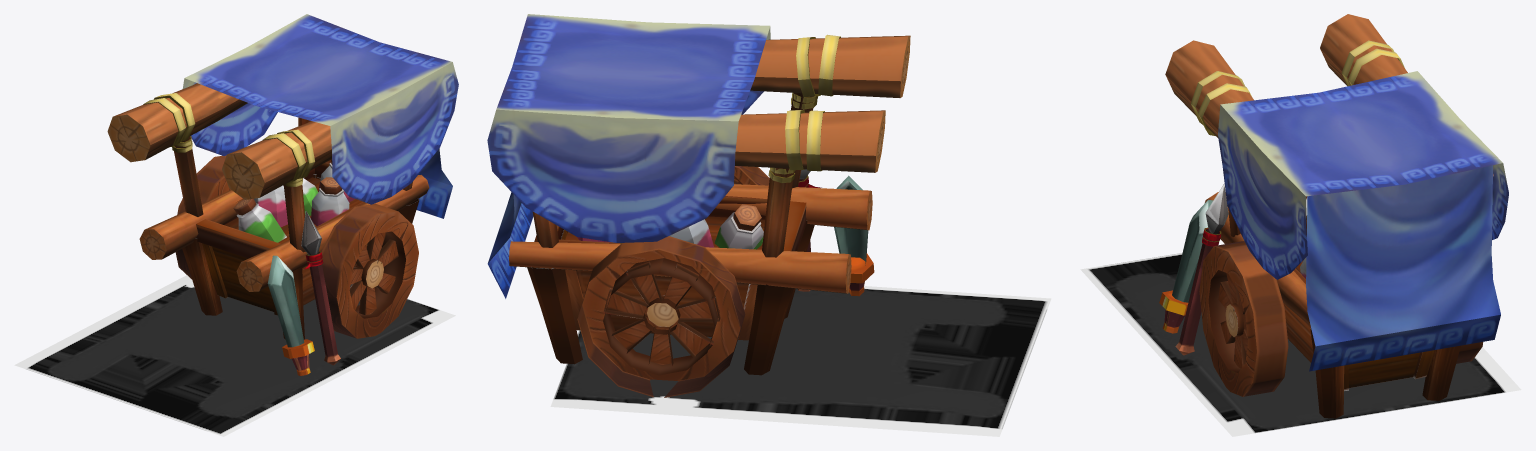
Rendered from tuiche.fbx.
The picture shows the model from 3 angles, left to right: view 1: azimuth 30°, elevation 25°; view 2: azimuth 150°, elevation 25°; view 3: azimuth 270°, elevation 25°; orthographic projection. The views are drawn at different scales.
Visible parts, largest first — view 1: Box03; view 2: Box03; view 3: Box03.
Part boxes in pixels (<box>): Box03: <box>14,14,458,436</box>; Box03: <box>487,14,1051,436</box>; Box03: <box>1080,14,1521,436</box>.
Bounding box in the file's own units: 96.65 × 51.38 × 77.06.
Materials: 2 (2 with a texture image).
